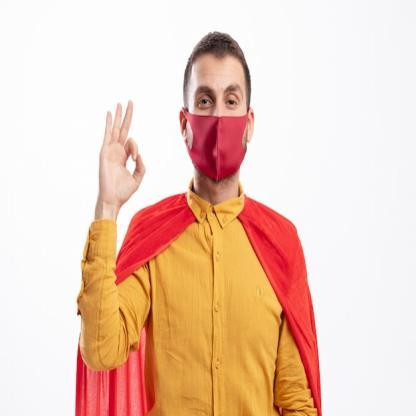ok: (95, 98, 148, 216)
